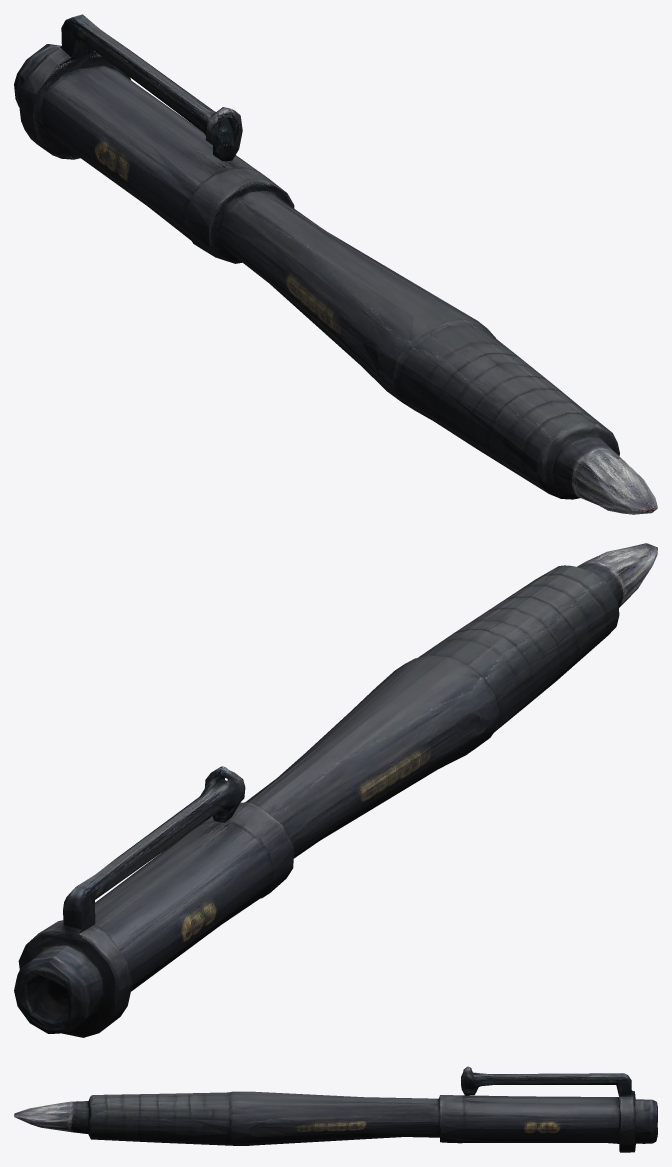
File: black_pen.glb
3 views of the same model, one above another, from view 1: azimuth 30°, elevation 25°; view 2: azimuth 150°, elevation 25°; view 3: azimuth 270°, elevation 25° (orthographic). The views are drawn at different scales.
Visible parts, largest first — view 1: geometry_0.014; view 2: geometry_0.014; view 3: geometry_0.014.
Part boxes in pixels (x1,y1,x2,y2): geometry_0.014: (14,14,657,514); geometry_0.014: (14,543,657,1037); geometry_0.014: (14,1066,657,1152).
Bounding box in the file's own units: 0.0155 × 0.0212 × 0.1511.
Materials: 1 (1 with a texture image).
